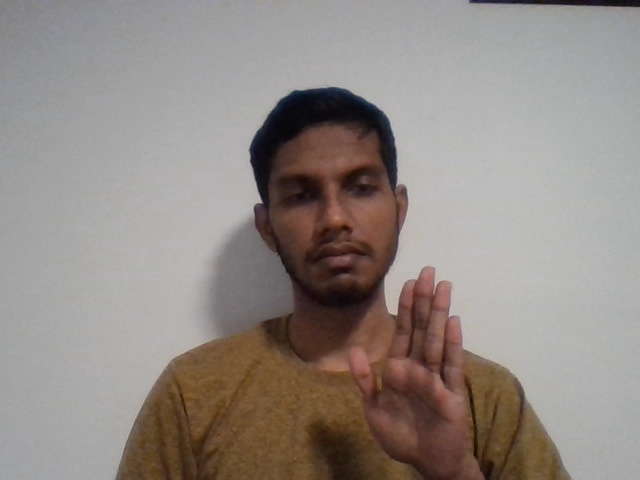hello: (332, 264, 515, 476)
